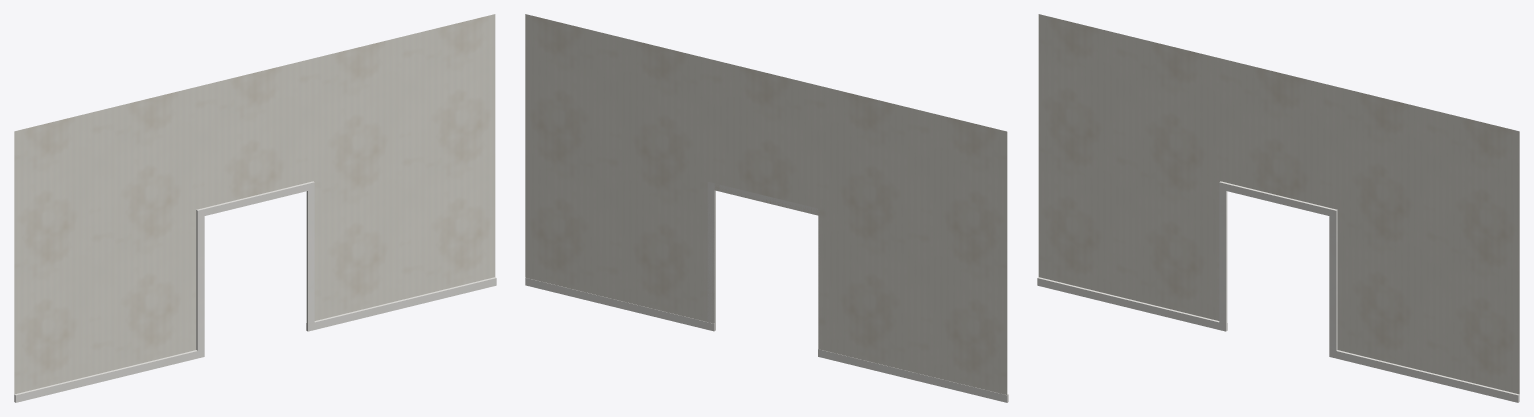
3 renders of one model, left to right at view 1: azimuth 30°, elevation 25°; view 2: azimuth 150°, elevation 25°; view 3: azimuth 330°, elevation 25°, orthographic.
Parts seen in each view (by area): view 1: jx_wm_9_f6b58a4a; view 2: jx_wm_9_f6b58a4a; view 3: jx_wm_9_f6b58a4a.
Boxes of the visible parts, x1,y1,x2,y2 form: jx_wm_9_f6b58a4a: (14,14,496,402); jx_wm_9_f6b58a4a: (525,14,1008,402); jx_wm_9_f6b58a4a: (1037,14,1519,402).
Bounding box in the file's own units: 9.3 × 5 × 0.05.
Materials: 2 (2 with a texture image).
